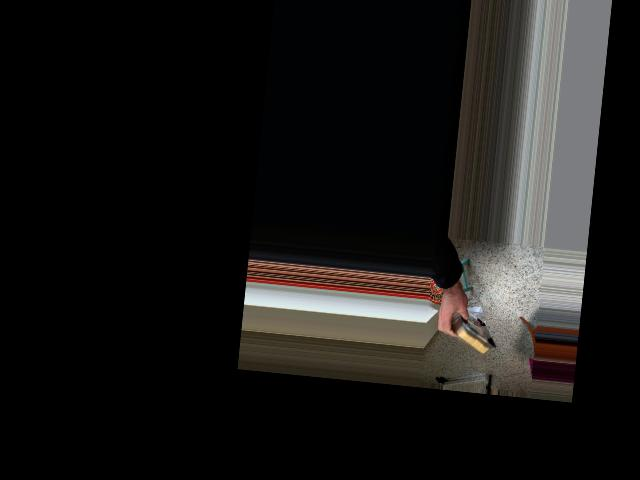cheese: (427, 297, 508, 365)
